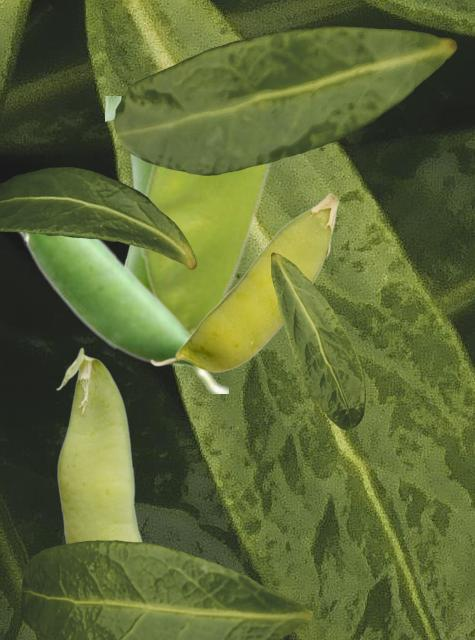pea: (150, 193, 338, 371), (17, 233, 227, 392), (140, 163, 274, 332), (55, 347, 143, 542), (105, 96, 149, 286)
